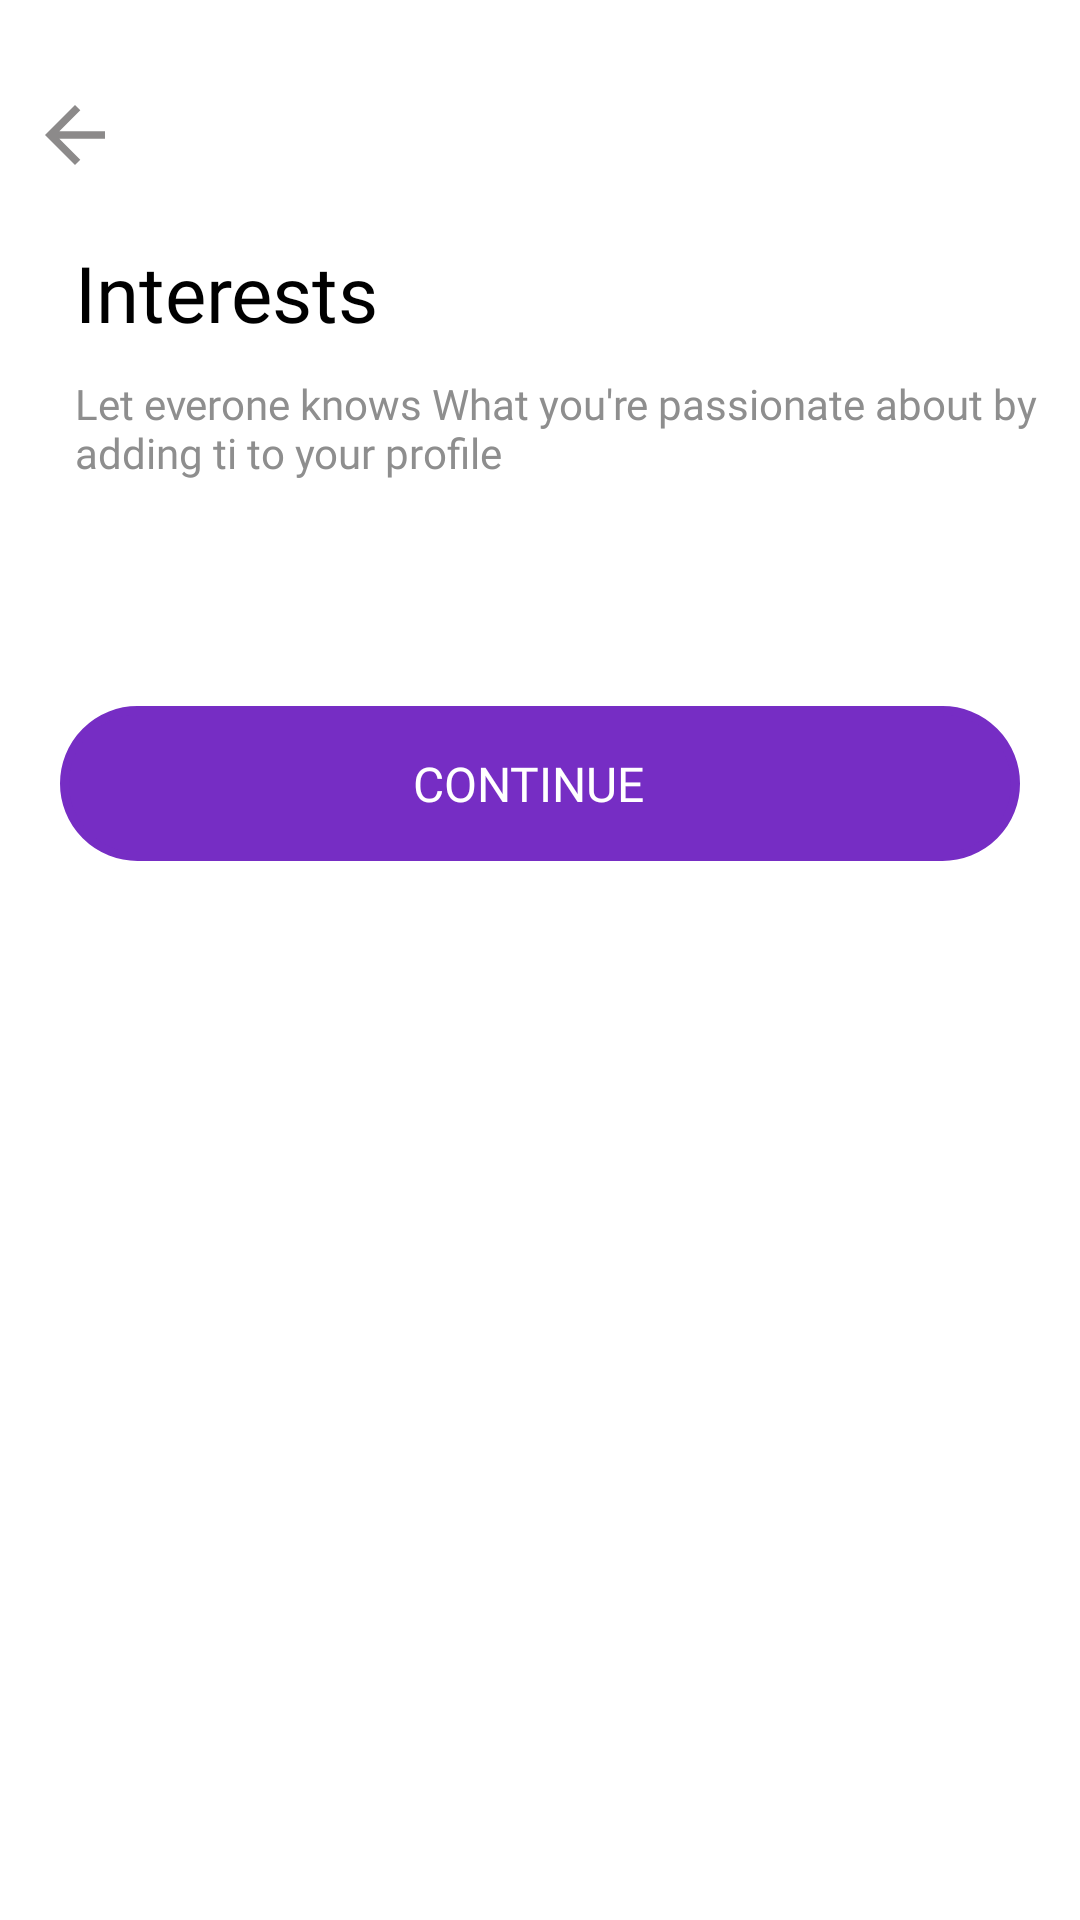

Icon click points for this 1080 x 1920 phone screenshot, format (x=x, y=y):
arrow back: (x=75, y=135)
